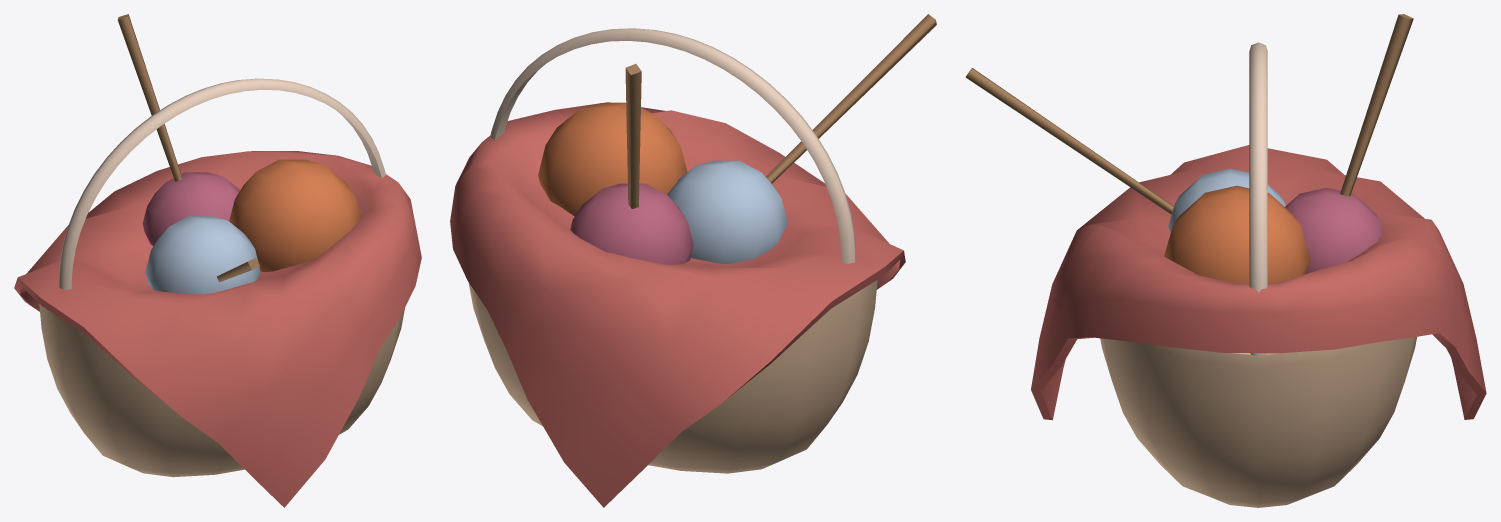
File: basket.fbx
3 renders of one model, left to right at view 1: azimuth 30°, elevation 25°; view 2: azimuth 150°, elevation 25°; view 3: azimuth 270°, elevation 25°, orthographic. The views are drawn at different scales.
Parts seen in each view (by area): view 1: basket; view 2: basket; view 3: basket.
Boxes of the visible parts, x1,y1,x2,y2 form: basket: (14, 14, 421, 507); basket: (450, 14, 936, 507); basket: (965, 14, 1486, 507).
Bounding box in the file's own units: 38.81 × 39.36 × 43.99.
